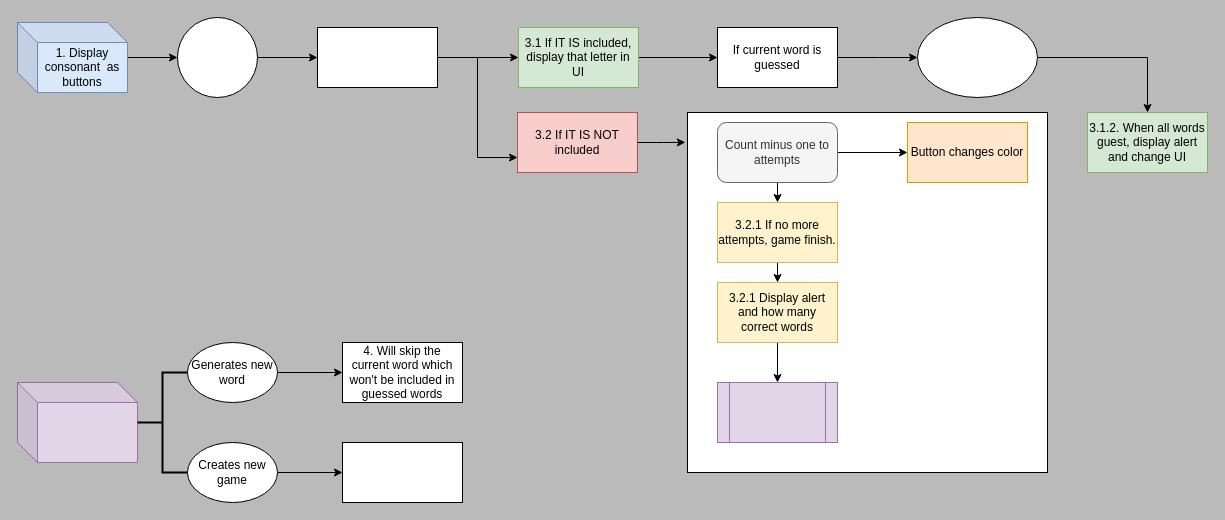
Image size: 1225x520. Some labels were removed from this diagram. Each missing label, with the box of its shape:
2. Create event listener for each button: (176, 16, 258, 98)
3. When button clicked, check if btn is included on the current word: (316, 26, 438, 88)
3.1.1 Sum one to guessed words label & change player's array: (916, 16, 1038, 98)
5. Re-start the game: (342, 442, 462, 502)
Attempts only applies for the current word: (716, 382, 838, 442)
Other buttons: (16, 382, 138, 462)
